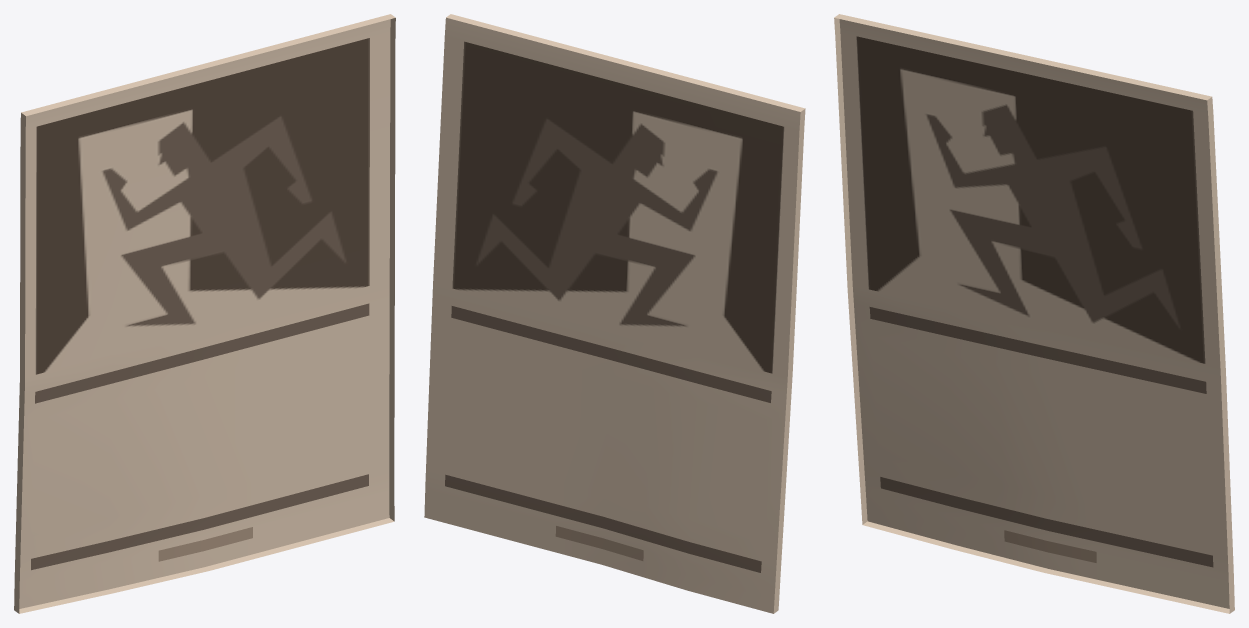
The model's file is valikko_poistu.fbx.
3 renders of one model, left to right at view 1: azimuth 30°, elevation 25°; view 2: azimuth 150°, elevation 25°; view 3: azimuth 330°, elevation 25°, orthographic. The views are drawn at different scales.
Parts seen in each view (by area): view 1: valikko_poistu; view 2: valikko_poistu; view 3: valikko_poistu.
Boxes of the visible parts, bbox=[...] form: valikko_poistu: bbox=[14, 14, 395, 613]; valikko_poistu: bbox=[424, 14, 805, 613]; valikko_poistu: bbox=[834, 14, 1234, 613].
Size of the model in its own units: 28.06 by 36.75 by 2.89.
